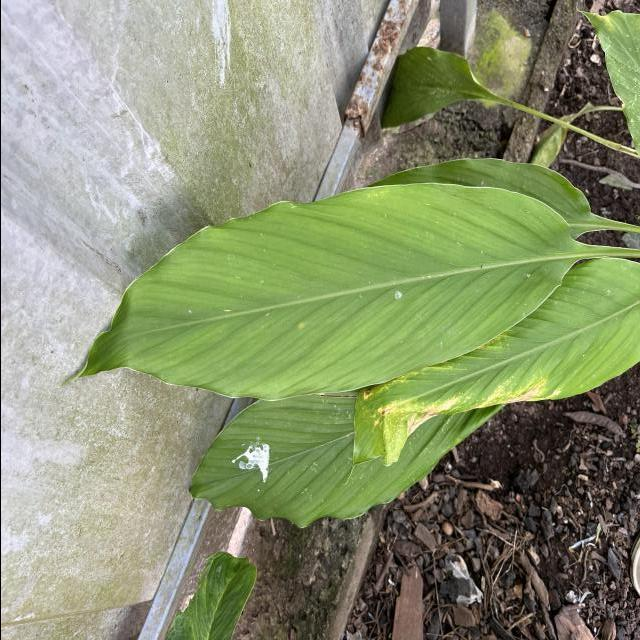Curcuma longa: (49, 176, 586, 406), (182, 398, 507, 532)
